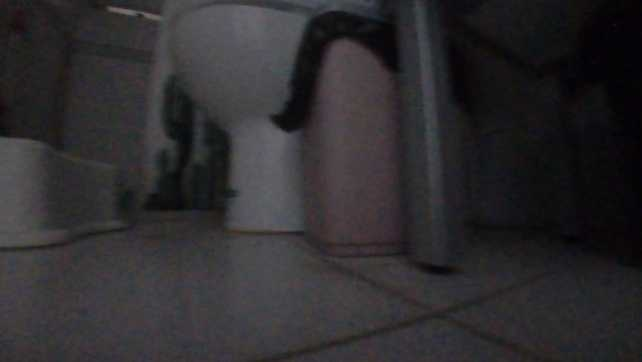toilet: (168, 0, 360, 235)
trash_can: (300, 10, 473, 260)
